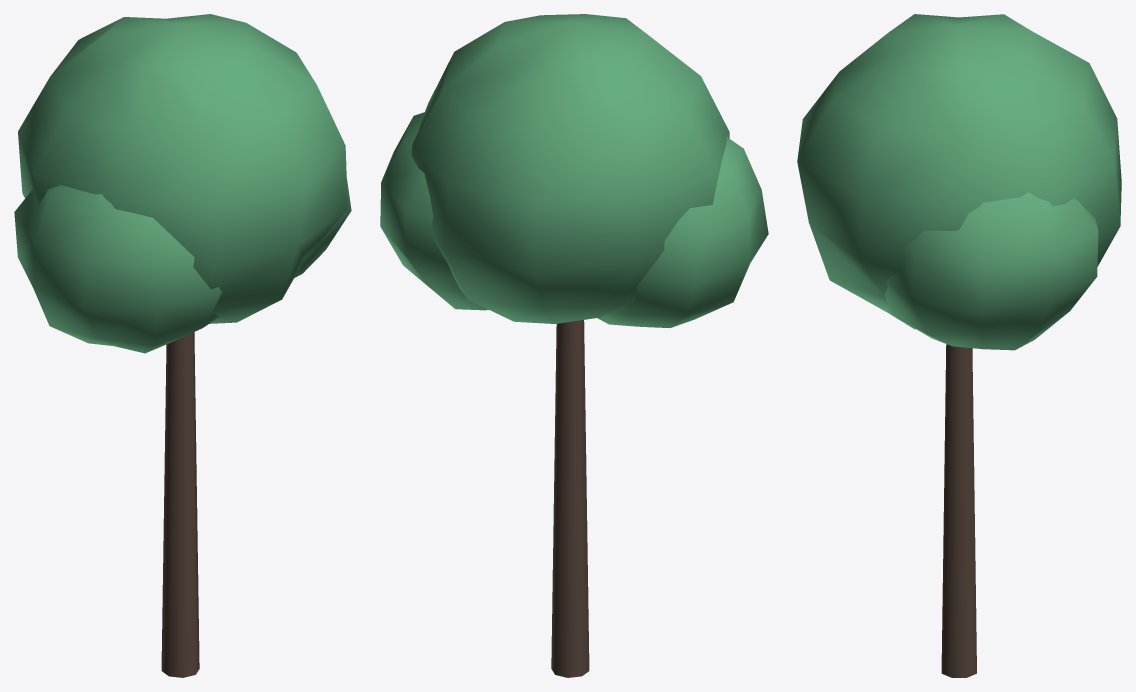
File: SM_Tree_B.obj
The picture shows the model from 3 angles, left to right: view 1: azimuth 30°, elevation 25°; view 2: azimuth 150°, elevation 25°; view 3: azimuth 270°, elevation 25°; orthographic projection.
Parts seen in each view (by area): view 1: Tree; view 2: Tree; view 3: Tree.
Boxes of the visible parts, x1=… form: Tree: x1=14, y1=14, x2=351, y2=677; Tree: x1=380, y1=14, x2=768, y2=677; Tree: x1=797, y1=14, x2=1121, y2=677.
Bounding box in the file's own units: 2.37 × 4.46 × 2.03.
